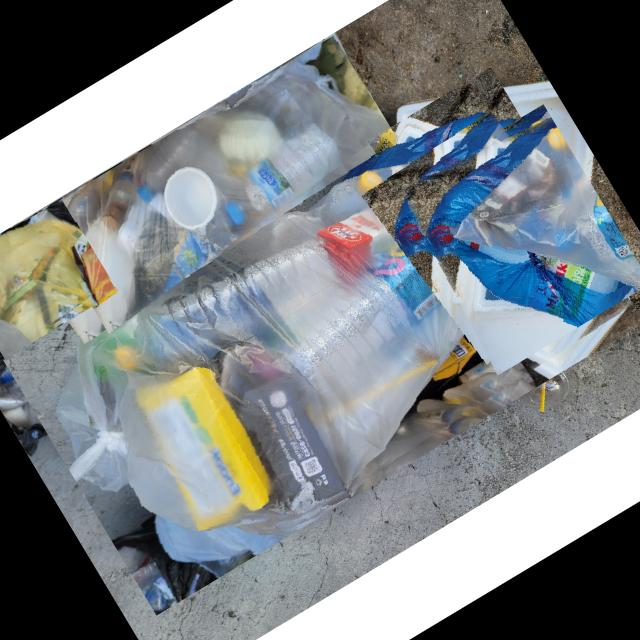other_trashbag: (61, 137, 518, 532), (46, 76, 393, 331), (424, 114, 630, 325), (0, 218, 91, 338)
